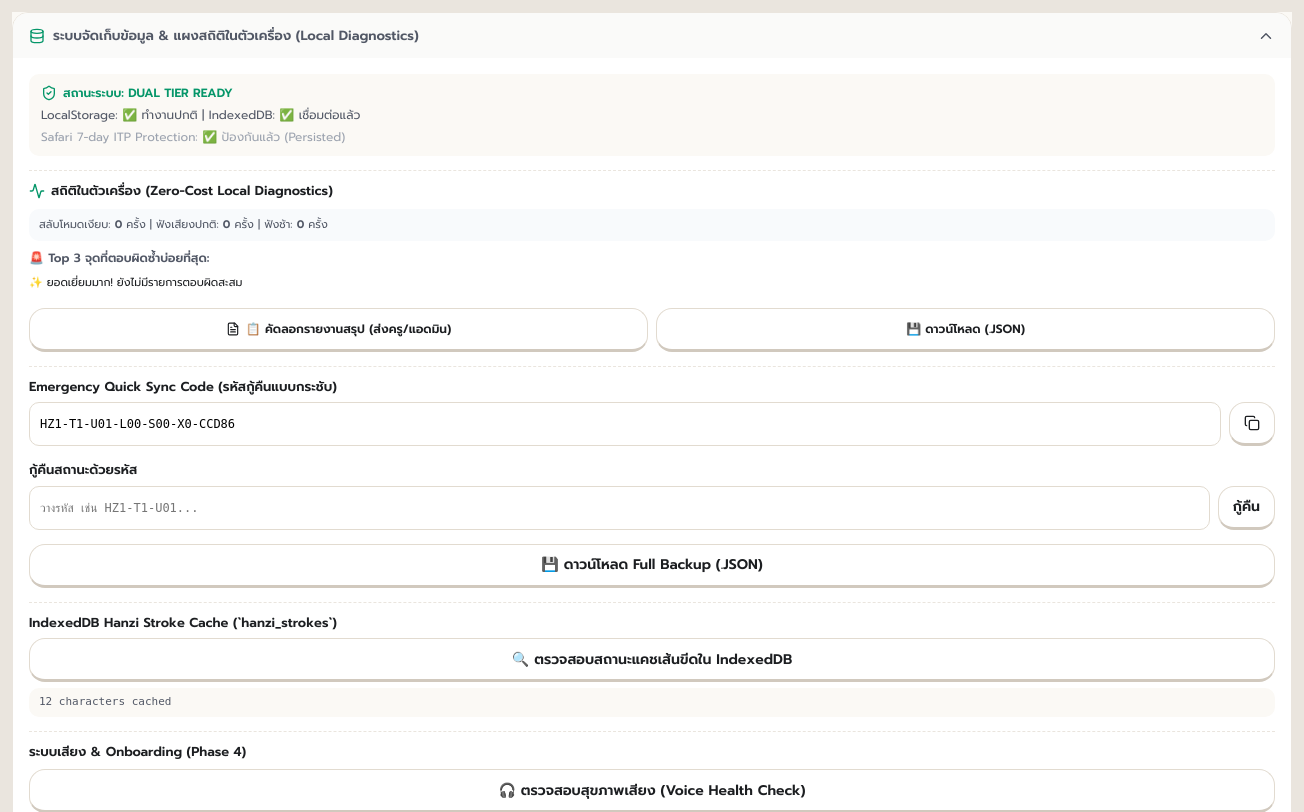
Test: DevStorageDrawer Component (Technical QA Verification) › falls back gracefully to execCommand copy when navigator.clipboard is unavailable
Click the button with test id "btn-copy-diagnostics-md" at [338, 330], box [29, 308, 648, 352]
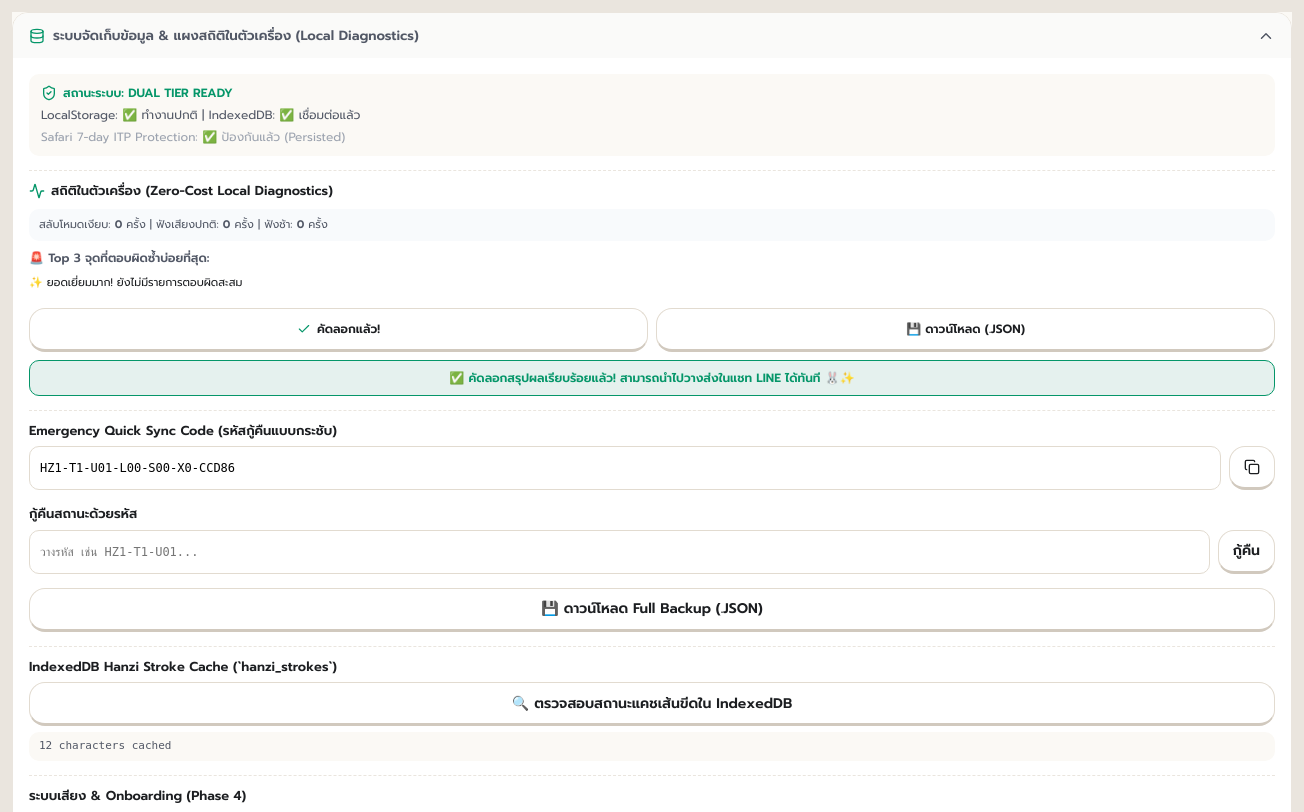
Expected: the text with test id "toast-copy-success" is shown, [29, 360, 1275, 396]
